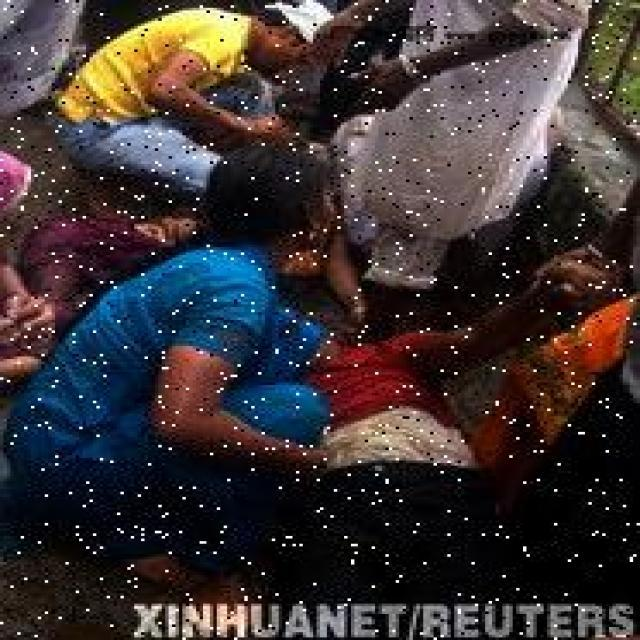fall: (303, 260, 595, 601)
